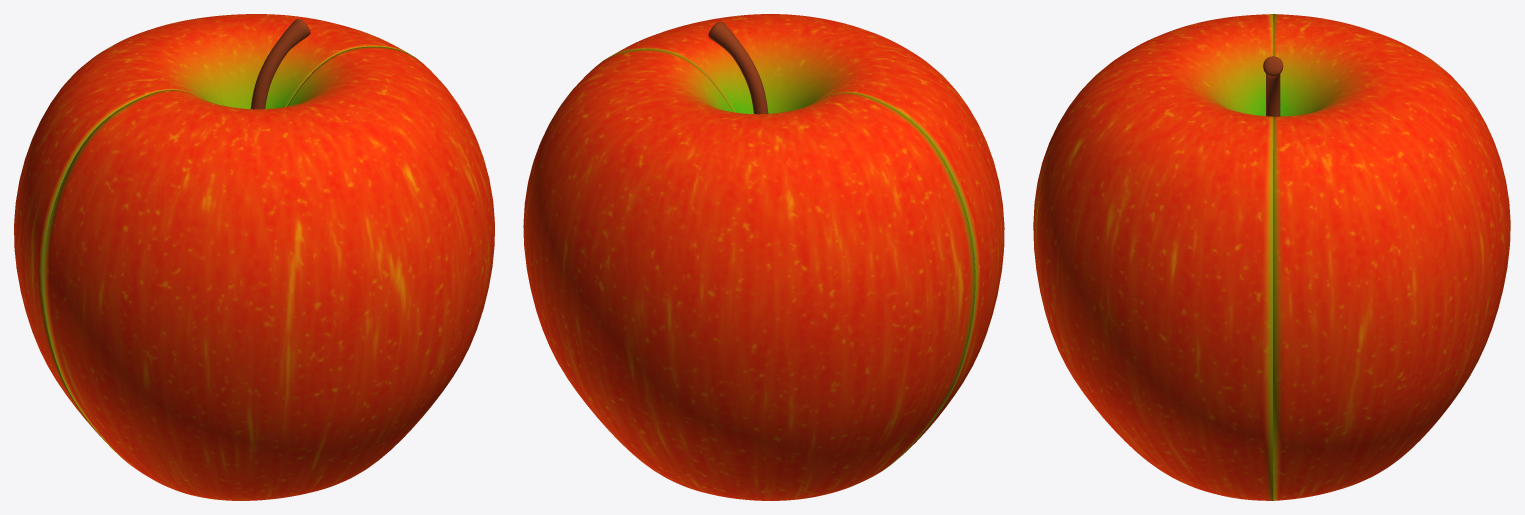
The model's file is Apple.fbx.
3 views of the same model, side by side, from view 1: azimuth 30°, elevation 25°; view 2: azimuth 150°, elevation 25°; view 3: azimuth 270°, elevation 25° (orthographic).
Visible parts, largest first — view 1: Apple.001, Apple, AppleStalk; view 2: Apple, Apple.001, AppleStalk; view 3: Apple.001, Apple, AppleStalk.
Boxes of the visible parts, x1,y1,x2,y2 form: Apple.001: [42, 46, 494, 500]; Apple: [14, 14, 412, 447]; AppleStalk: [250, 19, 310, 109]; Apple: [523, 49, 975, 500]; Apple.001: [608, 14, 1004, 456]; AppleStalk: [708, 21, 768, 114]; Apple.001: [1033, 14, 1273, 500]; Apple: [1273, 14, 1510, 500]; AppleStalk: [1263, 56, 1283, 116].
Size of the model in its own units: 343 by 336 by 338.
